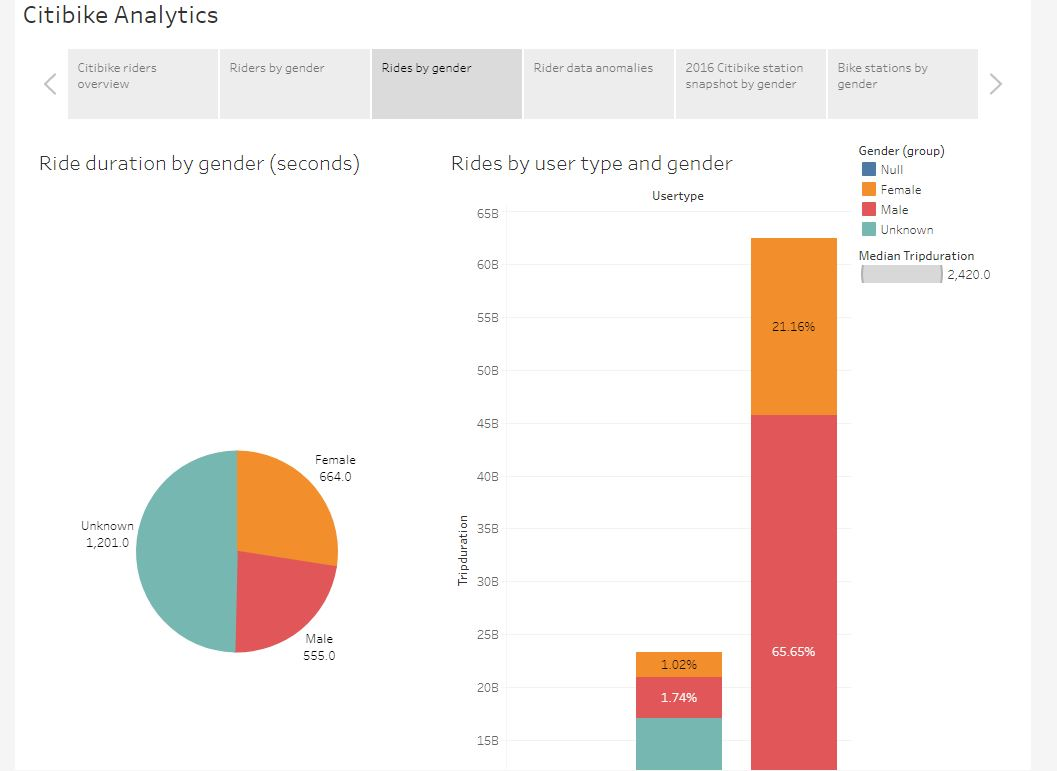

The page's visual inventory and layout, read from the dashboard file:
{"tool":"tableau","page":{"name":"Rides by gender","canvas":[1000,800],"ordinal":3},"visuals":[{"type":"worksheet","title":"Ride duration by gender (seconds)","mark":"Pie","box":[8,8,412,784]},{"type":"worksheet","title":"Rides by user type and gender","mark":"Automatic","rows":["tripduration"],"cols":["usertype"],"box":[420,8,412,784]},{"type":"legend","title":"Ride duration by gender (seconds)","param":"[federated.1ai8v7f0rhtwrv1g6mvor12yl9bw].[Gender (group)]","box":[832,8,160,106]},{"type":"legend","title":"Ride duration by gender (seconds)","param":"[federated.1ai8v7f0rhtwrv1g6mvor12yl9bw].[med:tripduration:qk]","box":[832,114,160,46]}]}

Visuals, with their boxes on the page's 1000x800 design canvas (x1, y1, x2, y2). These are canvas units, not pixel positions in the 1057x771 screenshot, which may show the page scaled, cropped or inside an application window:
"Ride duration by gender (seconds)" worksheet (Pie marks): crop(8, 8, 420, 792)
"Rides by user type and gender" worksheet: crop(420, 8, 832, 792)
"Ride duration by gender (seconds)" legend: crop(832, 8, 992, 114)
"Ride duration by gender (seconds)" legend: crop(832, 114, 992, 160)
